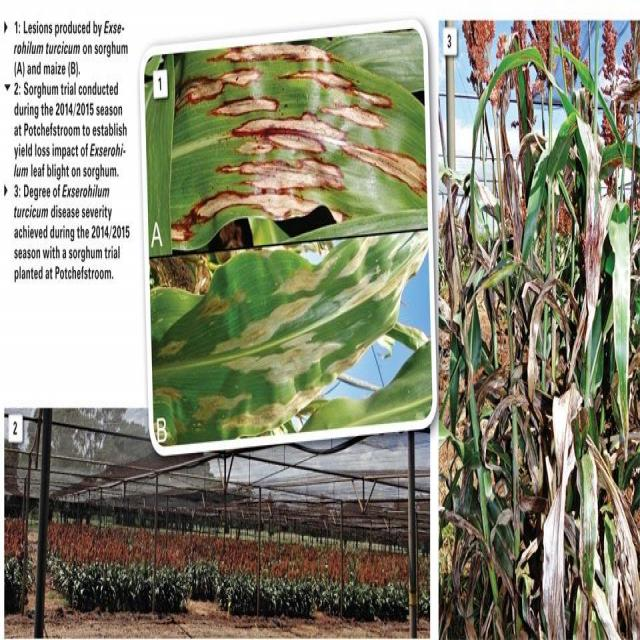blight: (212, 68, 351, 212)
